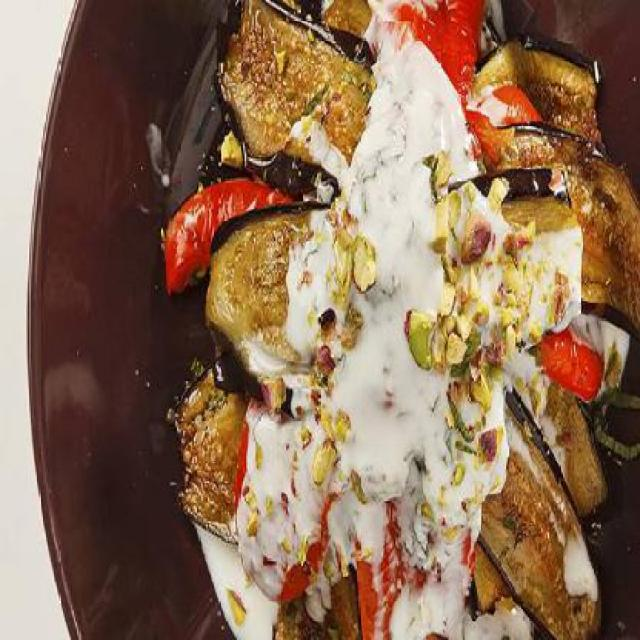eggplant: (173, 4, 639, 638)
hummus: (250, 12, 555, 638)
